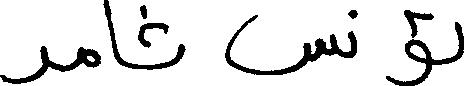X: (225, 10, 335, 79), (386, 5, 430, 85), (0, 41, 47, 85), (104, 0, 120, 69), (81, 42, 99, 72), (349, 5, 356, 62), (456, 17, 463, 65), (174, 39, 185, 69)
